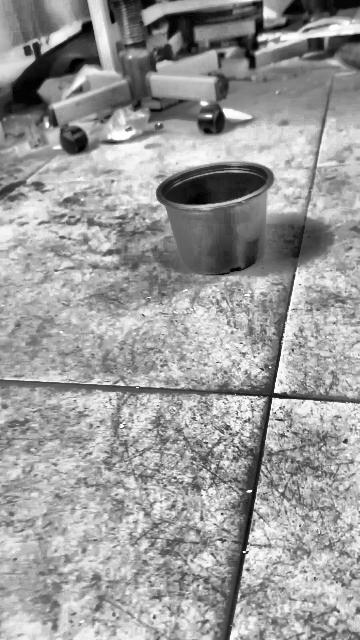pot: (157, 162, 273, 275)
